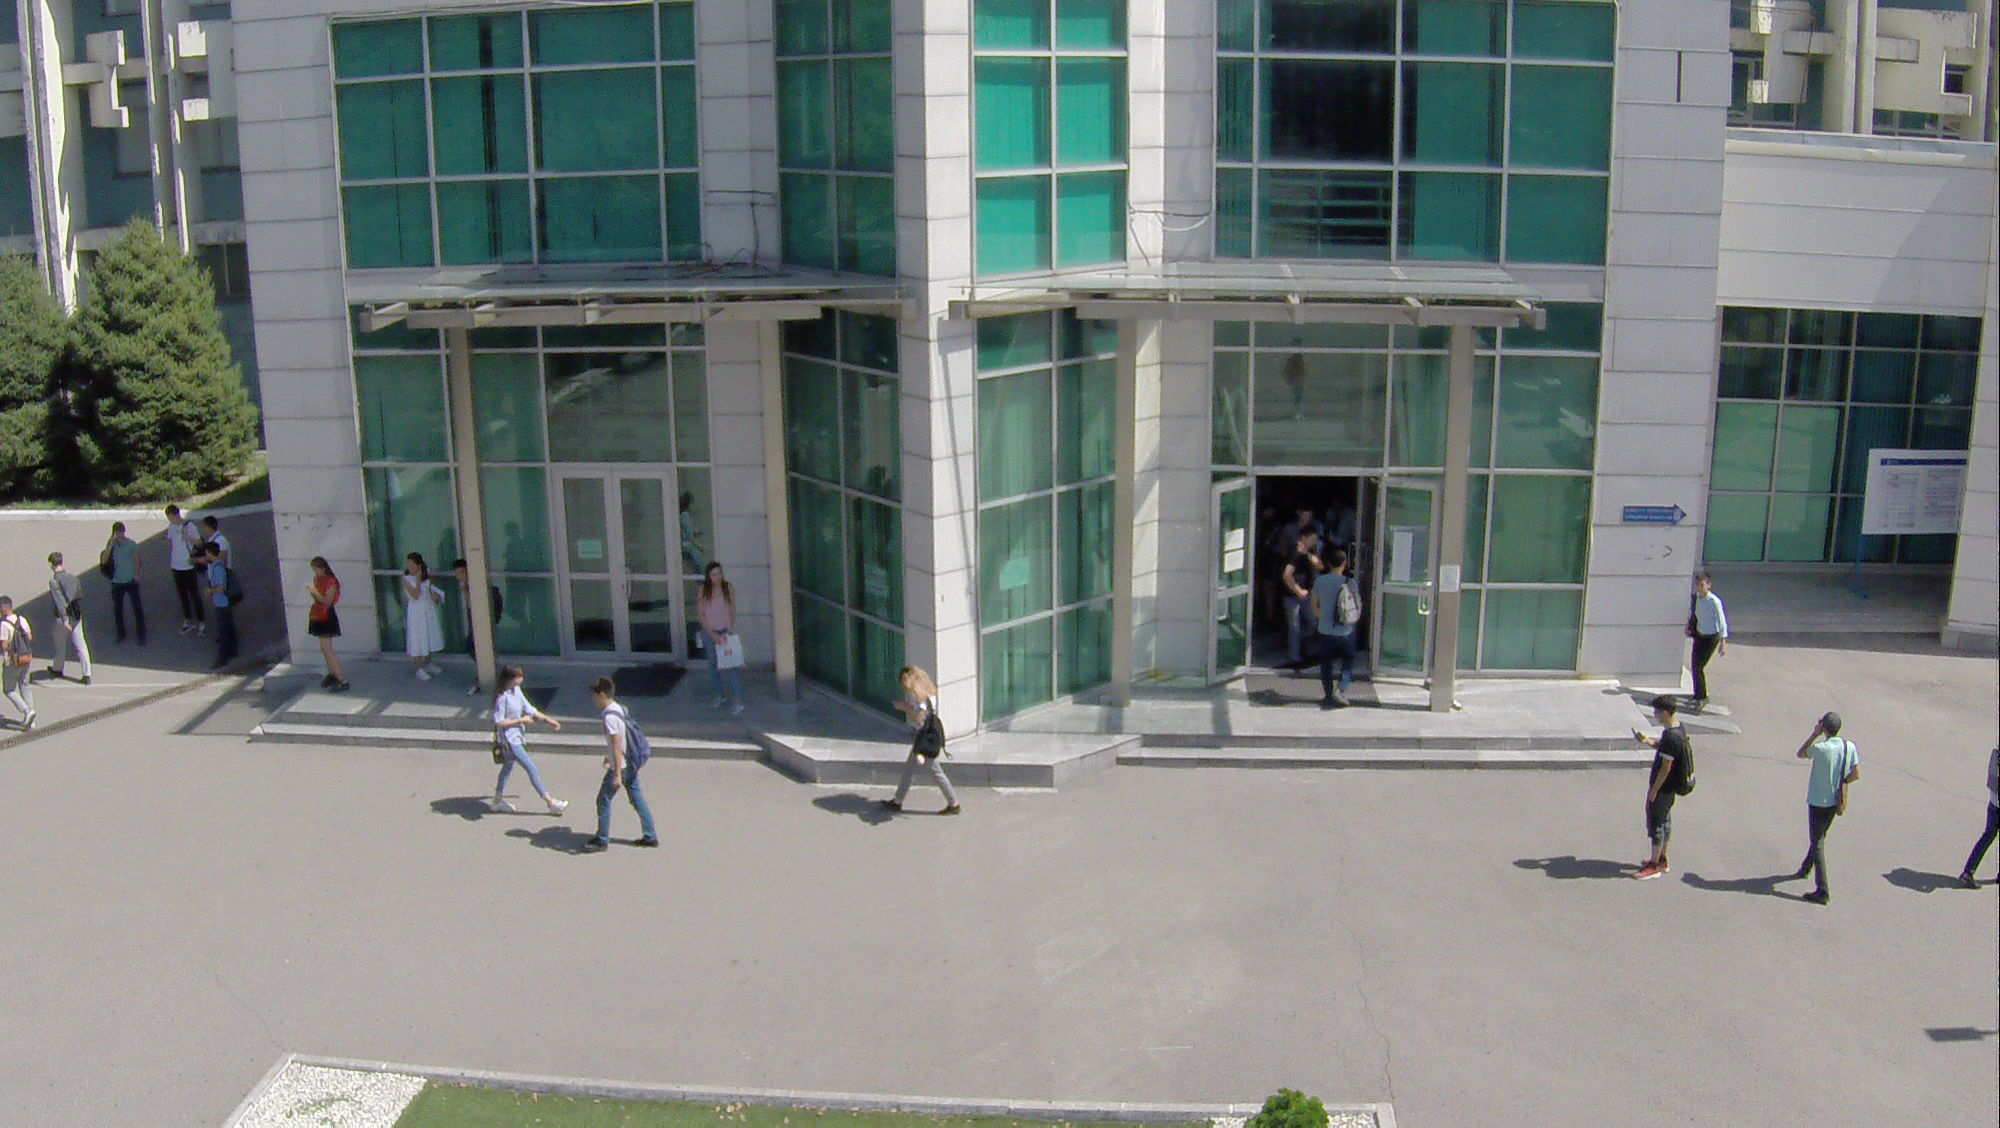person: (571, 677, 663, 856), (1620, 690, 1701, 878), (872, 658, 965, 817), (482, 659, 570, 823), (1788, 703, 1859, 883), (687, 559, 747, 722), (299, 549, 355, 694), (1315, 551, 1363, 711), (1679, 567, 1730, 716), (44, 553, 95, 689), (162, 502, 213, 638), (103, 518, 152, 648), (1282, 527, 1325, 667), (396, 555, 441, 686), (1, 595, 32, 735), (204, 539, 234, 681)
